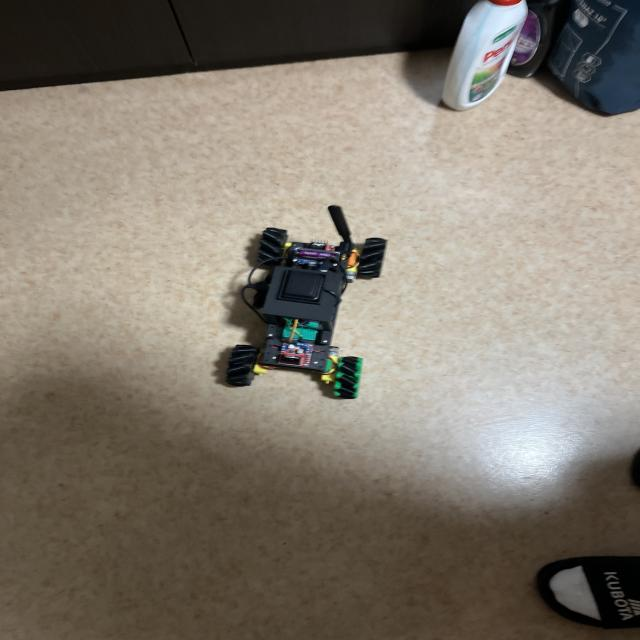robot: (226, 205, 386, 399)
